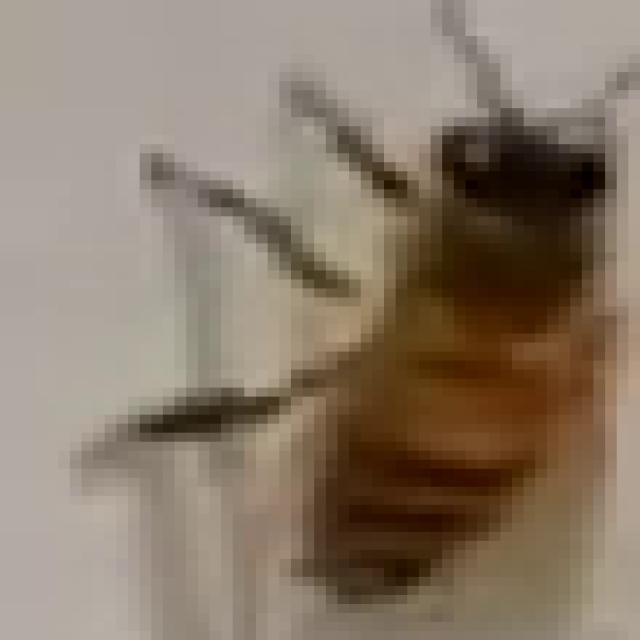honeybee: (208, 64, 608, 588)
